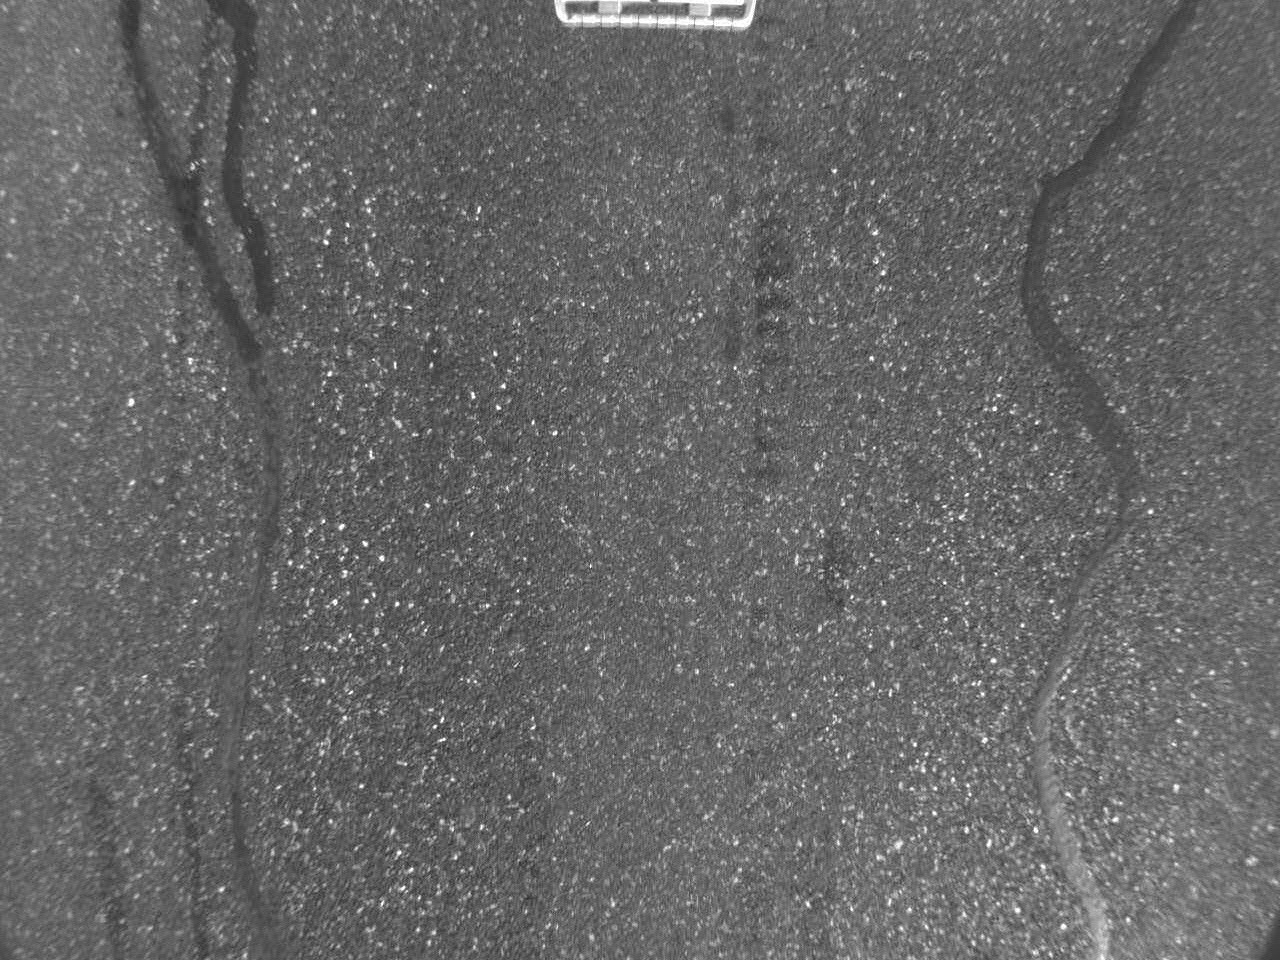sealed: (1018, 6, 1194, 946)
